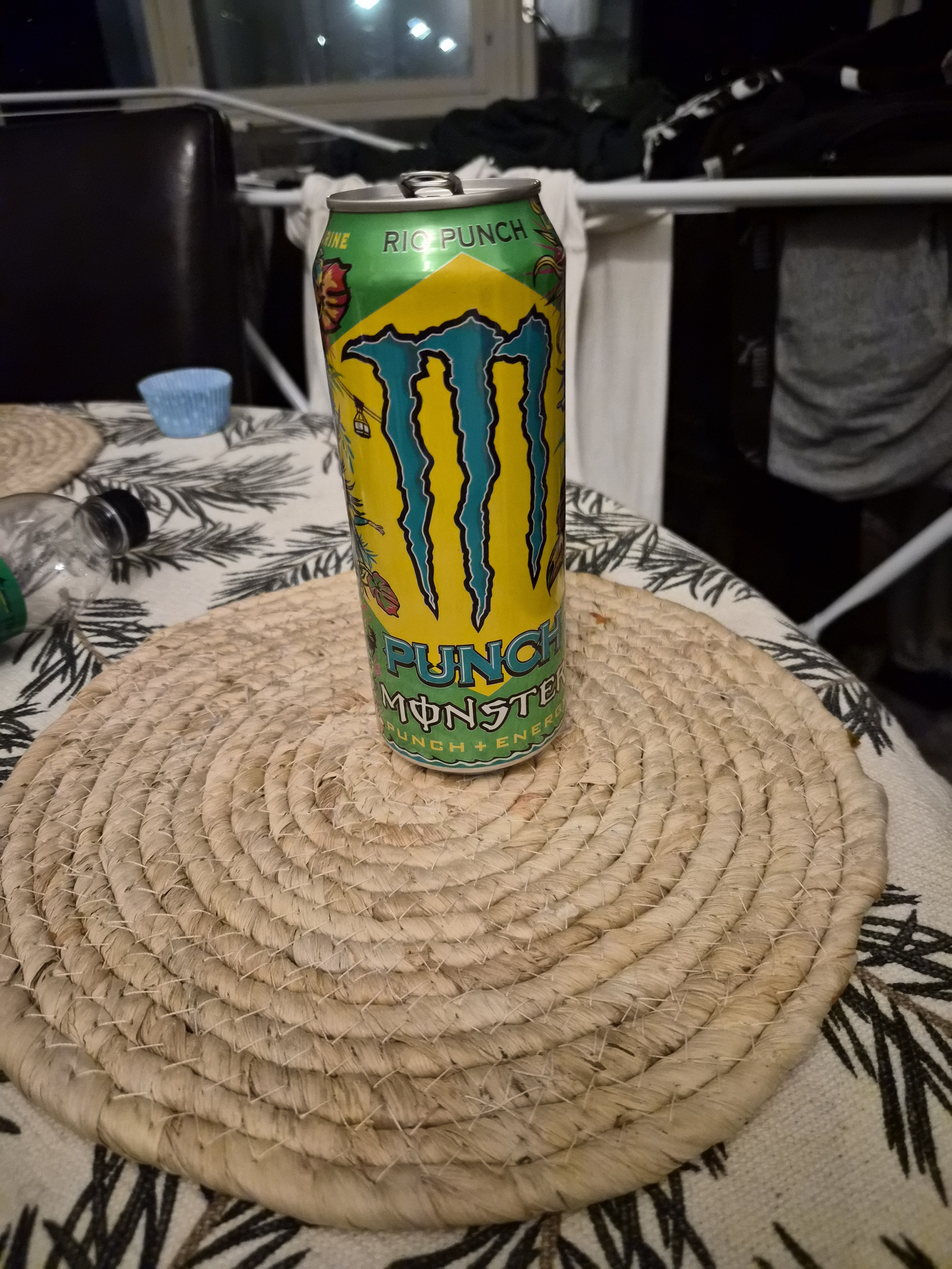Pantburk: (296, 166, 569, 778)
